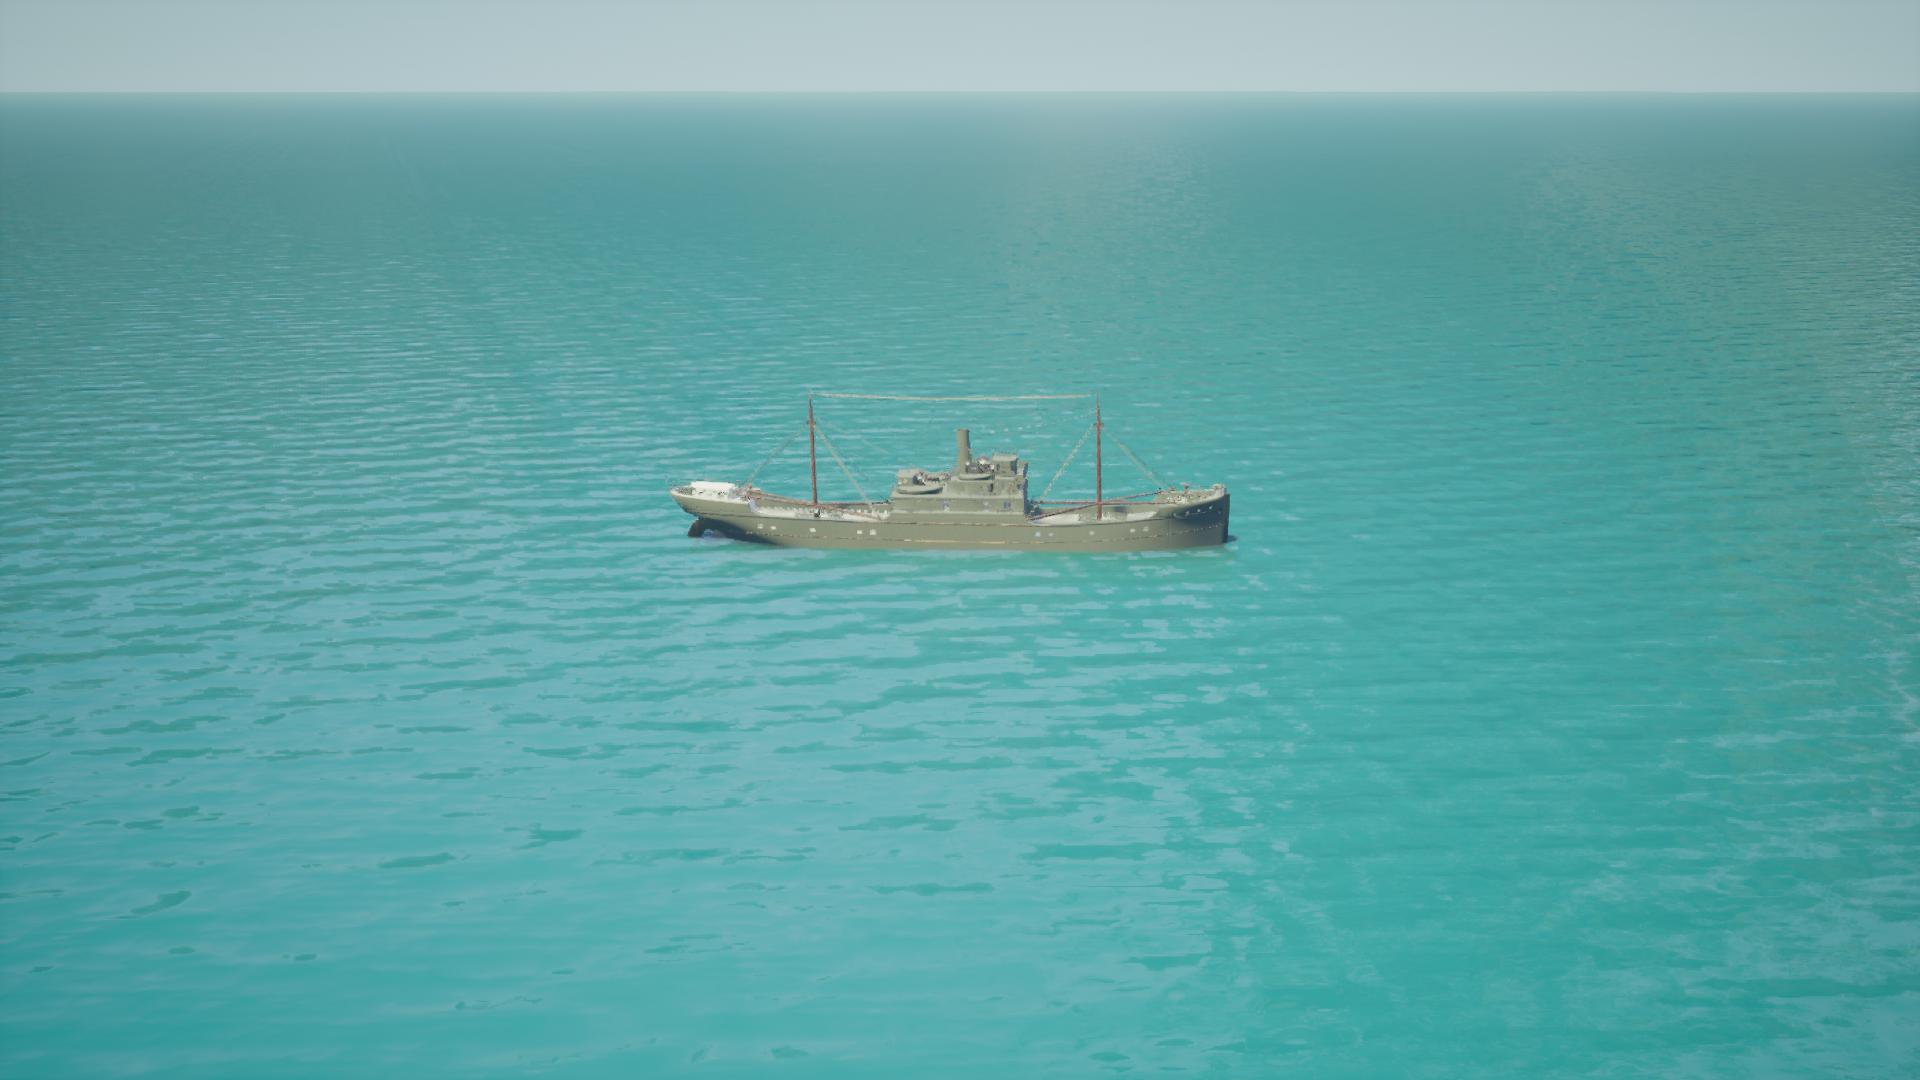Fishing Boat: (671, 393, 1236, 556)
